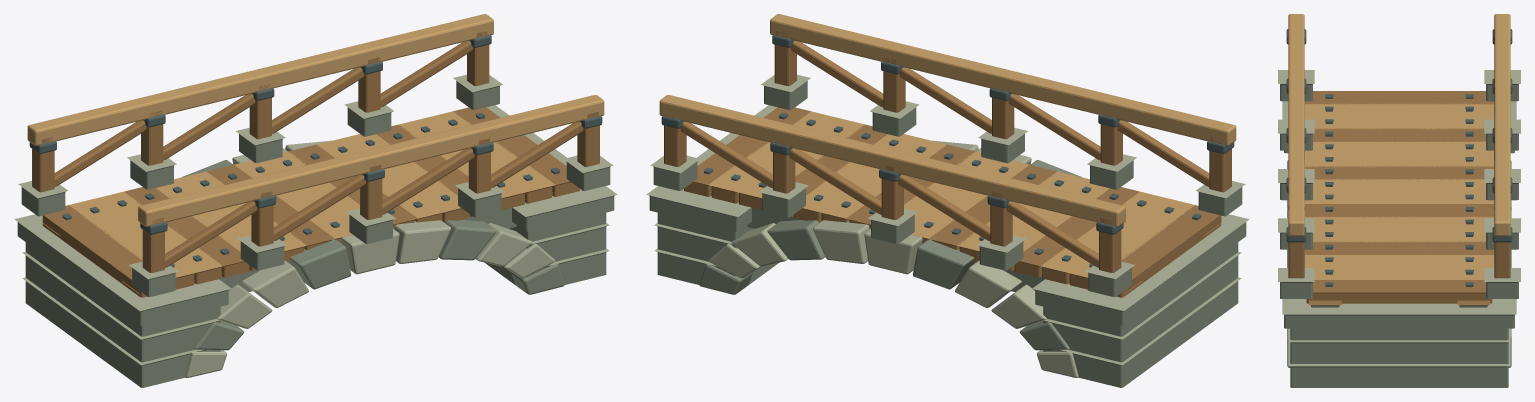
File: forest-bridge.glb
The picture shows the model from 3 angles, left to right: view 1: azimuth 30°, elevation 25°; view 2: azimuth 150°, elevation 25°; view 3: azimuth 270°, elevation 25°; orthographic projection. The views are drawn at different scales.
Parts seen in each view (by area): view 1: Bridge surface 00, Bridge surface 06, Bridge surface 04, Bridge surface 09, Bridge surface 13, Bridge surface 02, Bridge surface 11, Bridge surface 07, Bridge surface 01, Bridge surface 10, Bridge surface 05, Bridge surface 12 (+2 smaller); view 2: Bridge surface 00, Bridge surface 06, Bridge surface 04, Bridge surface 13, Bridge surface 09, Bridge surface 02, Bridge surface 07, Bridge surface 11, Bridge surface 01, Bridge surface 10, Bridge surface 05, Bridge surface 08 (+2 smaller); view 3: Bridge surface 00, Bridge surface 06, Bridge surface 04, Bridge surface 09, Bridge surface 13, Bridge surface 10, Bridge surface 05, Bridge surface 07, Bridge surface 11, Bridge surface 08, Bridge surface 12, Bridge surface 03 (+1 smaller).
Boxes of the visible parts, bbox=[...] form: Bridge surface 00: bbox=[14, 74, 617, 387]; Bridge surface 06: bbox=[69, 111, 555, 289]; Bridge surface 04: bbox=[42, 107, 579, 297]; Bridge surface 09: bbox=[27, 14, 493, 145]; Bridge surface 13: bbox=[138, 95, 604, 226]; Bridge surface 02: bbox=[185, 140, 555, 377]; Bridge surface 11: bbox=[142, 111, 599, 272]; Bridge surface 07: bbox=[32, 31, 489, 192]; Bridge surface 01: bbox=[181, 160, 564, 350]; Bridge surface 10: bbox=[129, 155, 613, 296]; Bridge surface 05: bbox=[62, 112, 560, 267]; Bridge surface 12: bbox=[140, 115, 602, 234]; Bridge surface 00: bbox=[646, 105, 1249, 387]; Bridge surface 06: bbox=[708, 111, 1194, 289]; Bridge surface 04: bbox=[684, 107, 1221, 297]; Bridge surface 13: bbox=[770, 14, 1236, 145]; Bridge surface 09: bbox=[659, 95, 1125, 226]; Bridge surface 02: bbox=[708, 140, 1078, 377]; Bridge surface 07: bbox=[664, 116, 1121, 272]; Bridge surface 11: bbox=[774, 31, 1231, 192]; Bridge surface 01: bbox=[699, 160, 1082, 350]; Bridge surface 10: bbox=[761, 74, 1245, 216]; Bridge surface 05: bbox=[703, 112, 1201, 267]; Bridge surface 08: bbox=[661, 115, 1123, 234]; Bridge surface 00: bbox=[1282, 70, 1520, 387]; Bridge surface 06: bbox=[1305, 103, 1493, 279]; Bridge surface 04: bbox=[1305, 91, 1493, 303]; Bridge surface 09: bbox=[1494, 14, 1510, 236]; Bridge surface 13: bbox=[1288, 14, 1304, 236]; Bridge surface 10: bbox=[1278, 70, 1314, 298]; Bridge surface 05: bbox=[1325, 94, 1473, 286]; Bridge surface 07: bbox=[1494, 242, 1510, 278]; Bridge surface 11: bbox=[1288, 242, 1304, 278]; Bridge surface 08: bbox=[1492, 29, 1512, 242]; Bridge surface 12: bbox=[1286, 29, 1306, 242]; Bridge surface 03: bbox=[1309, 300, 1489, 307].
Bounding box in the file's own units: 156 × 55.25 × 73.6.
